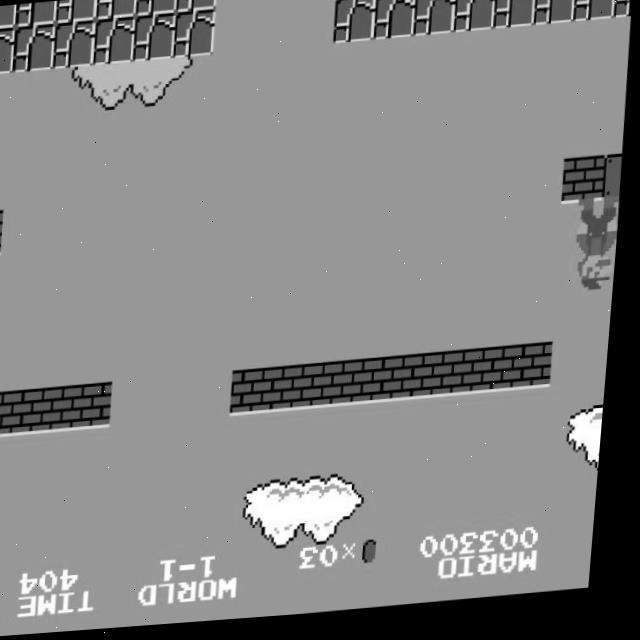0- big_mario: (576, 206, 624, 303)
1- brick_block: (564, 164, 609, 213), (515, 350, 560, 399), (475, 353, 520, 402), (435, 356, 480, 405), (395, 359, 440, 408), (355, 362, 400, 411), (315, 365, 360, 414), (275, 368, 320, 417), (235, 371, 280, 420), (35, 386, 80, 435), (75, 384, 120, 432), (0, 390, 40, 438), (0, 210, 7, 257)
17- undestructible_block: (172, 11, 217, 61), (92, 17, 137, 67), (52, 20, 97, 70), (332, 0, 377, 49), (132, 15, 177, 64), (12, 24, 57, 73), (372, 0, 417, 46), (412, 0, 457, 43), (452, 0, 497, 39), (492, 0, 537, 37), (532, 0, 577, 34), (572, 0, 617, 30), (15, 1, 57, 28), (55, 0, 97, 24), (95, 0, 137, 21), (135, 0, 177, 19), (0, 27, 16, 74), (175, 0, 217, 15), (613, 0, 634, 28), (0, 4, 16, 28), (335, 0, 377, 3), (375, 0, 417, 0)
3- empty_block: (605, 163, 626, 210)
